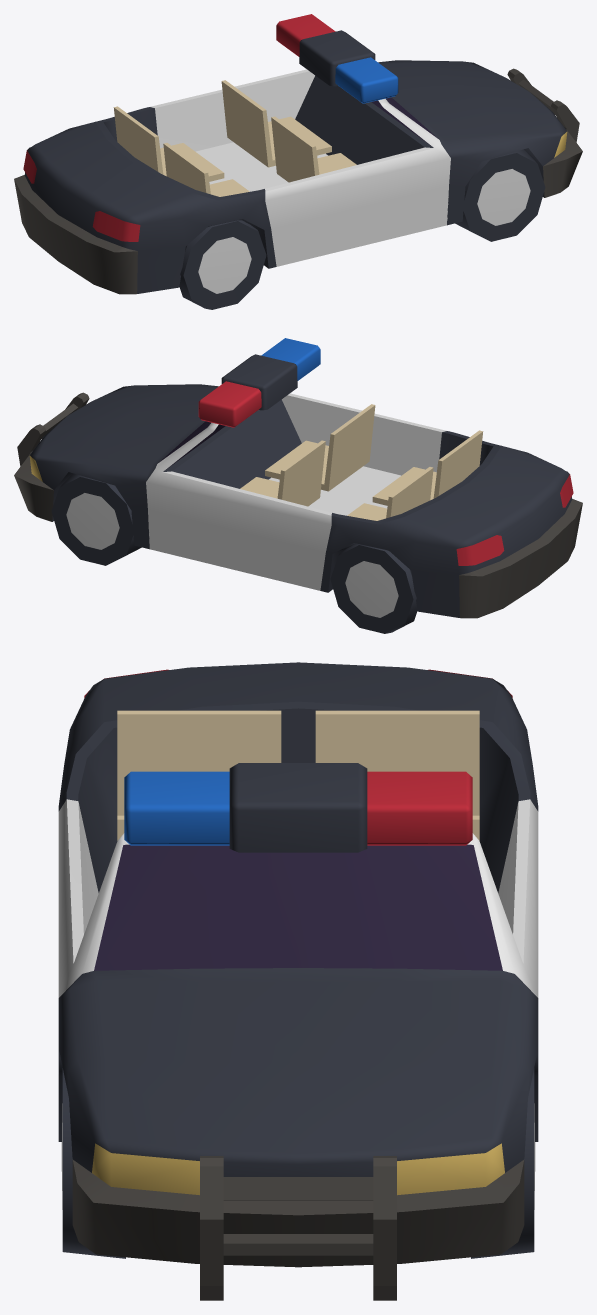
The model's file is Police_open.fbx.
3 views of the same model, one above another, from view 1: azimuth 30°, elevation 25°; view 2: azimuth 150°, elevation 25°; view 3: azimuth 270°, elevation 25° (orthographic). The views are drawn at different scales.
Visible parts, largest first — view 1: Police_open; view 2: Police_open; view 3: Police_open.
Boxes of the visible parts, x1,y1,x2,y2 form: Police_open: [14, 14, 582, 309]; Police_open: [14, 338, 582, 633]; Police_open: [58, 662, 538, 1300].
Size of the model in its own units: 20.85 by 7.05 by 8.54.
